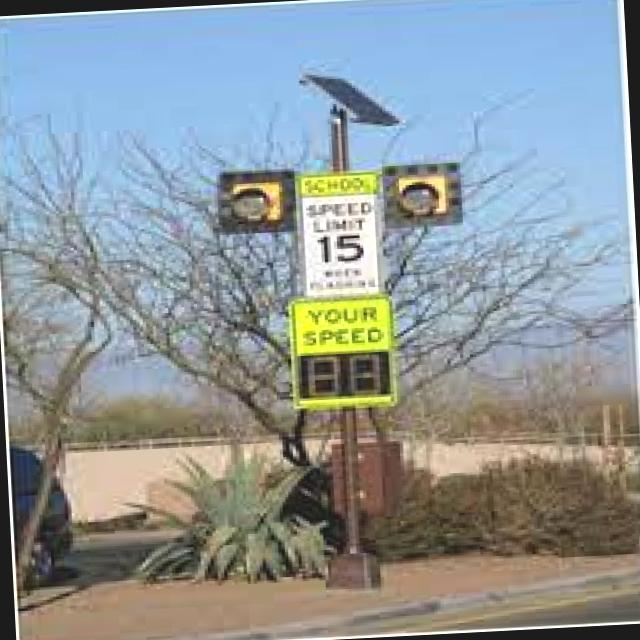Speed Limit Signs: (292, 170, 388, 296)
